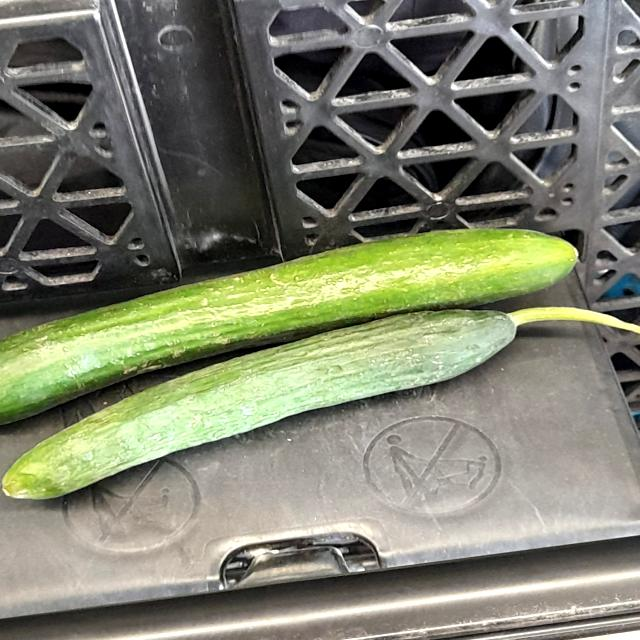cucumber: (0, 204, 602, 426), (0, 292, 634, 498)
